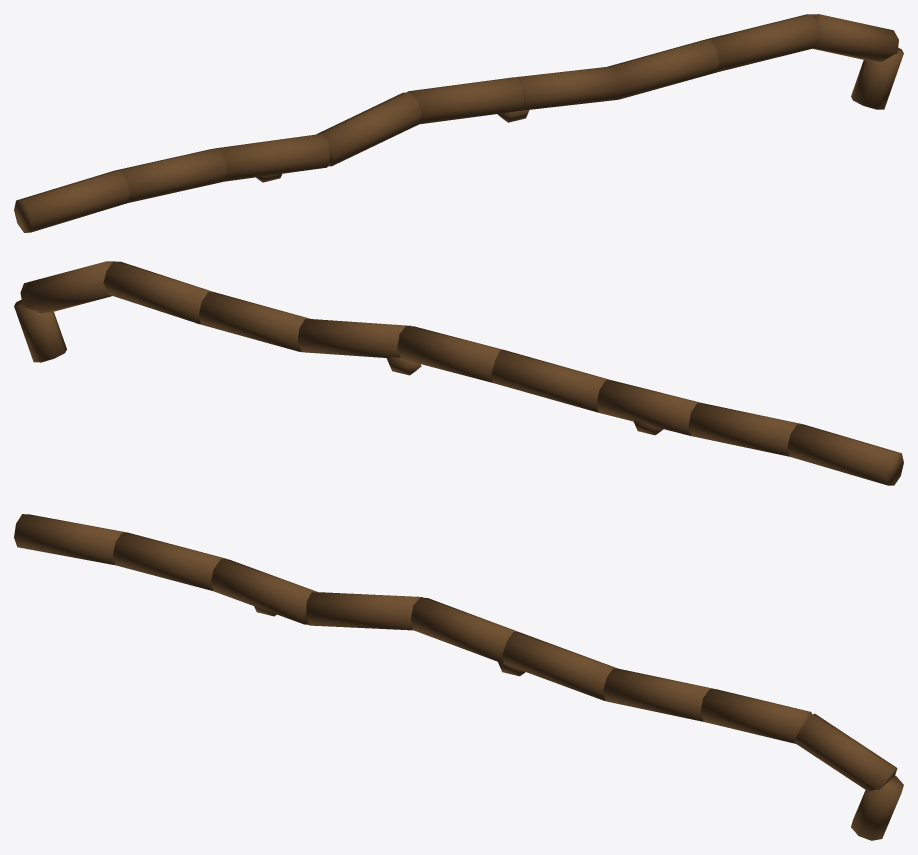
File: stock.glb
The picture shows the model from 3 angles, top to bottom: view 1: azimuth 30°, elevation 25°; view 2: azimuth 150°, elevation 25°; view 3: azimuth 330°, elevation 25°; orthographic projection.
Parts seen in each view (by area): view 1: Cone; view 2: Cone; view 3: Cone.
Boxes of the visible parts, x1,y1,x2,y2 form: Cone: [14, 14, 903, 232]; Cone: [14, 261, 903, 485]; Cone: [14, 514, 903, 840].
Size of the model in its own units: 0.8957 by 0.1217 by 0.0472.
